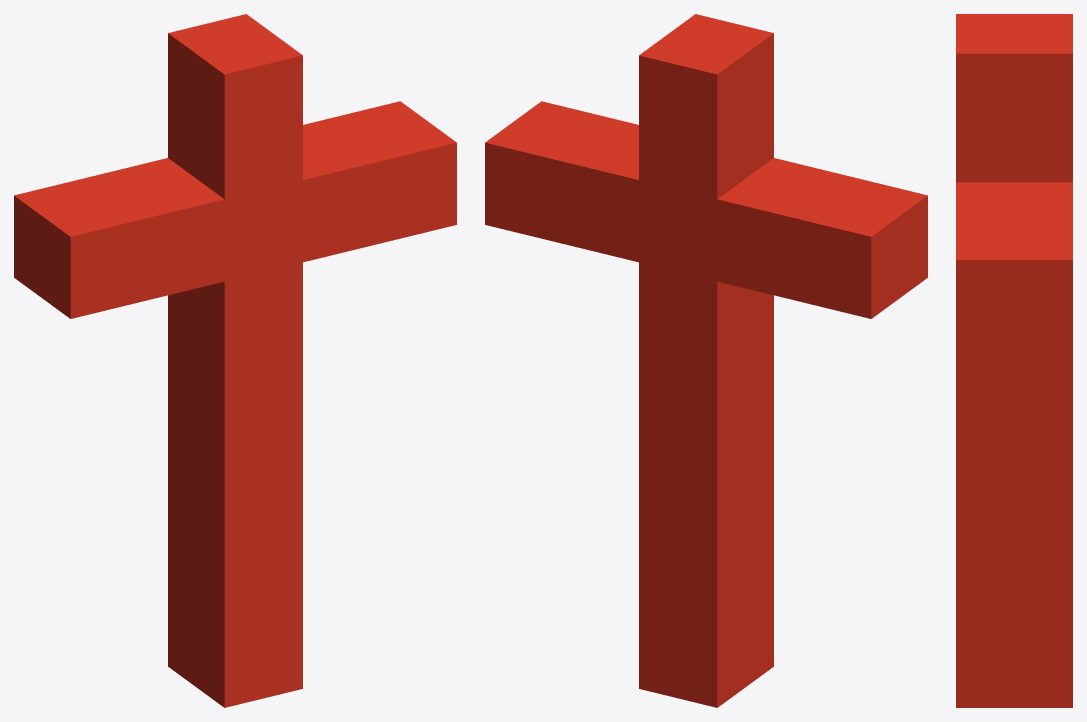
The model's file is Icon_Cross_01.fbx.
3 renders of one model, left to right at view 1: azimuth 30°, elevation 25°; view 2: azimuth 150°, elevation 25°; view 3: azimuth 270°, elevation 25°, orthographic. The views are drawn at different scales.
Parts seen in each view (by area): view 1: Icon_Cross_01; view 2: Icon_Cross_01; view 3: Icon_Cross_01.
Boxes of the visible parts, x1,y1,x2,y2 form: Icon_Cross_01: (14,14,456,707); Icon_Cross_01: (485,14,927,707); Icon_Cross_01: (956,14,1072,707).
Size of the model in its own units: 47.53 by 74.47 by 12.06.
